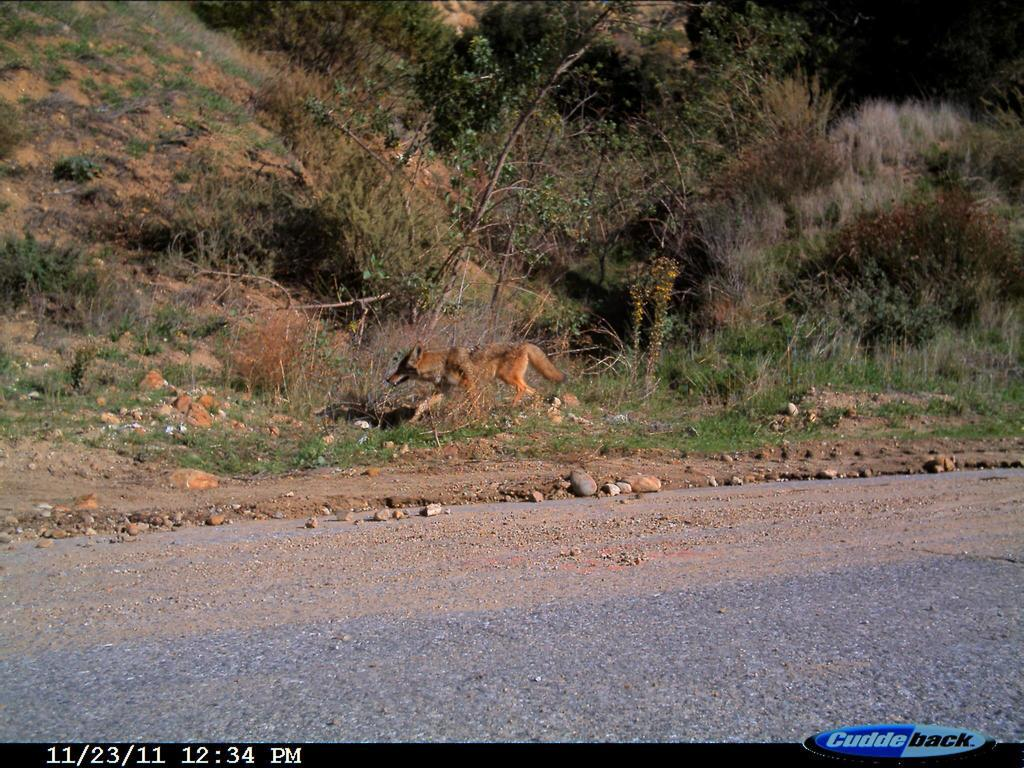coyote: (376, 329, 573, 428)
